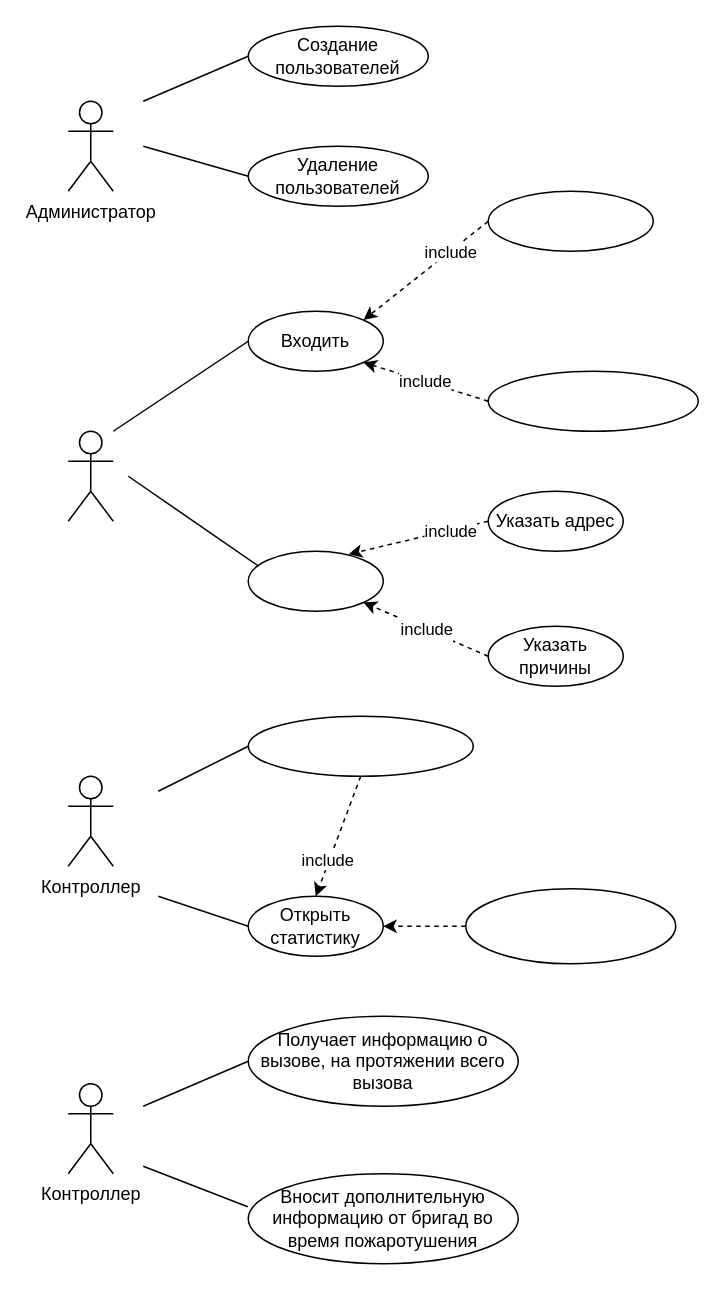
The diagram is 725 pixels wide and 1290 high, and some of its shapes have lost their labels. Here are the shapes that lost their labels. From the top down, the box of each, then its label:
(487, 190, 653, 251): Авторизоваться
(487, 370, 698, 431): Зарегестрироваться
(67, 430, 113, 521): Гражданин
(247, 550, 383, 611): Вызов Пожарных
(247, 715, 473, 776): Выгрузить отчеты по вызовам
(464, 887, 676, 964): Выявить пожароопасные места
